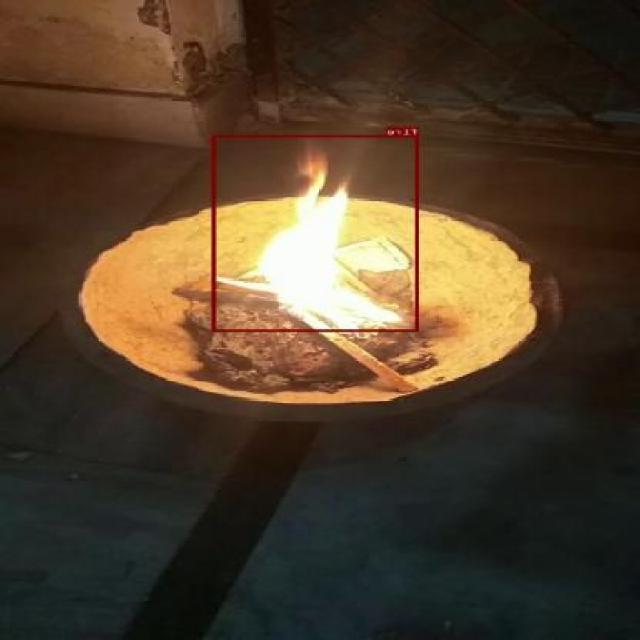Fire: (212, 134, 420, 332)
